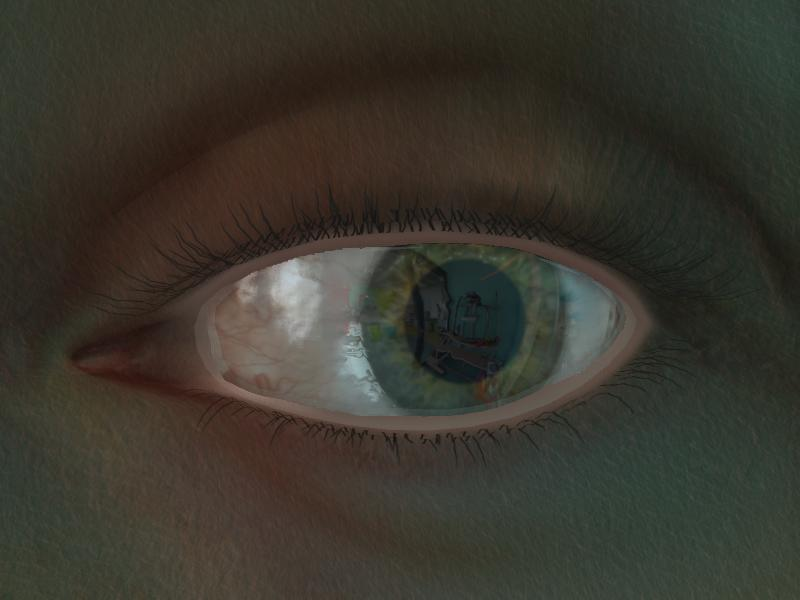eye: (359, 247, 563, 415)
